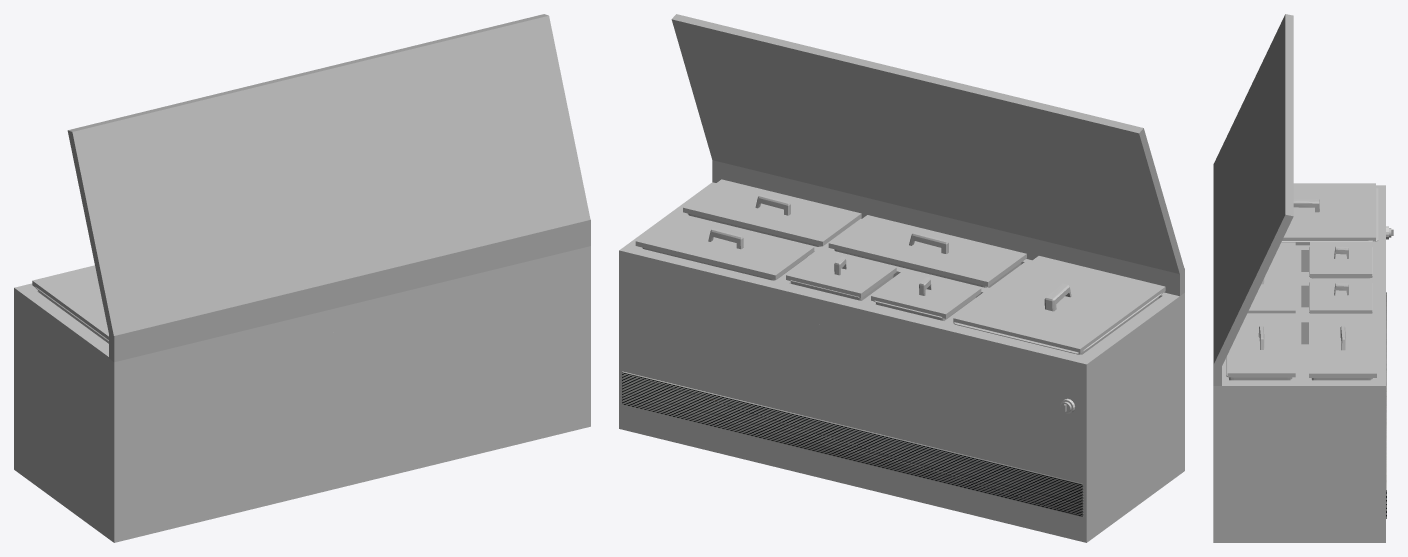
Rendered from cafeteria food warmer.fbx.
3 renders of one model, left to right at view 1: azimuth 30°, elevation 25°; view 2: azimuth 150°, elevation 25°; view 3: azimuth 270°, elevation 25°, orthographic. The views are drawn at different scales.
Parts seen in each view (by area): view 1: Object.2, Object.9, Object.1, Object.10, Object.12, Object.18; view 2: Object.9, Object.2, Object.30, Object.11, Object.18, Object.1, Object.24, Object.28, Object.26, Object.12, Object.20, Object.22 (+4 smaller); view 3: Object.9, Object.2, Object.18, Object.28, Object.13, Object.26, Object.11, Object.24, Object.22, Object.20, Object.16, Object.10 (+5 smaller).
Boxes of the visible parts, x1,y1,x2,y2 form: Object.2: [67, 14, 590, 336]; Object.9: [14, 270, 590, 542]; Object.1: [109, 219, 590, 362]; Object.10: [105, 249, 577, 382]; Object.12: [14, 288, 127, 386]; Object.18: [32, 265, 108, 339]; Object.9: [619, 275, 1184, 542]; Object.2: [671, 14, 1184, 273]; Object.30: [622, 371, 1083, 516]; Object.11: [619, 244, 1094, 385]; Object.18: [953, 256, 1165, 353]; Object.1: [712, 160, 1184, 296]; Object.24: [828, 215, 1026, 286]; Object.28: [635, 213, 814, 279]; Object.26: [683, 179, 861, 246]; Object.12: [1073, 296, 1184, 389]; Object.20: [786, 249, 896, 297]; Object.22: [871, 270, 981, 318]; Object.9: [1213, 272, 1385, 542]; Object.2: [1213, 14, 1293, 366]; Object.18: [1282, 183, 1375, 241]; Object.28: [1309, 313, 1376, 377]; Object.13: [1213, 380, 1385, 407]; Object.26: [1227, 313, 1295, 377]; Object.11: [1370, 185, 1385, 407]; Object.24: [1247, 242, 1295, 313]; Object.22: [1310, 241, 1372, 277]; Object.20: [1310, 278, 1372, 313]; Object.16: [1290, 249, 1301, 385]; Object.10: [1213, 358, 1228, 407].
Bounding box in the file's own units: 11001 × 8388 × 4180.
